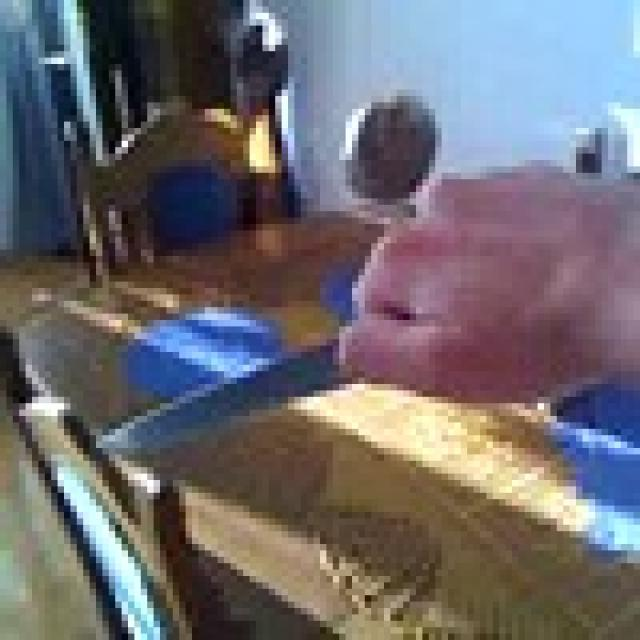weapon: (90, 288, 416, 467)
